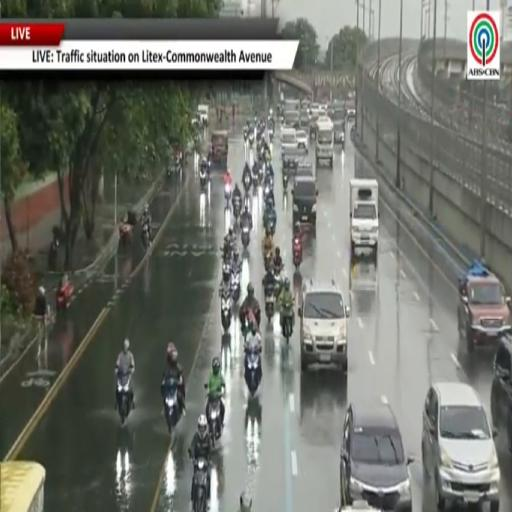bus: (0, 461, 45, 511)
car: (422, 382, 500, 511), (340, 402, 413, 511), (298, 281, 350, 371), (458, 262, 510, 351), (491, 333, 511, 453), (292, 176, 318, 228), (212, 131, 228, 171), (294, 159, 314, 179), (340, 501, 378, 511), (281, 128, 297, 151), (297, 130, 309, 153), (197, 104, 209, 127), (285, 110, 299, 129), (298, 109, 309, 129), (310, 103, 319, 117)
motorcycle: (163, 378, 181, 433), (193, 458, 209, 511), (207, 393, 222, 445), (245, 349, 261, 395), (117, 373, 131, 425), (56, 280, 73, 312), (221, 288, 232, 333), (48, 238, 59, 271), (282, 311, 293, 343), (265, 286, 275, 321), (119, 222, 133, 246), (231, 269, 241, 302), (292, 237, 302, 270), (274, 268, 282, 297), (263, 182, 273, 204), (224, 184, 232, 210), (142, 223, 150, 249), (241, 226, 250, 249), (222, 261, 231, 282), (243, 172, 252, 193), (233, 196, 241, 219), (265, 218, 275, 236), (200, 170, 208, 190), (264, 251, 272, 271), (258, 163, 265, 183), (244, 191, 251, 210), (252, 166, 258, 188), (283, 172, 288, 191), (350, 124, 355, 140), (268, 128, 273, 142), (249, 133, 254, 147), (243, 131, 248, 143)
truck: (350, 179, 378, 261), (316, 117, 333, 168), (333, 107, 345, 149)
